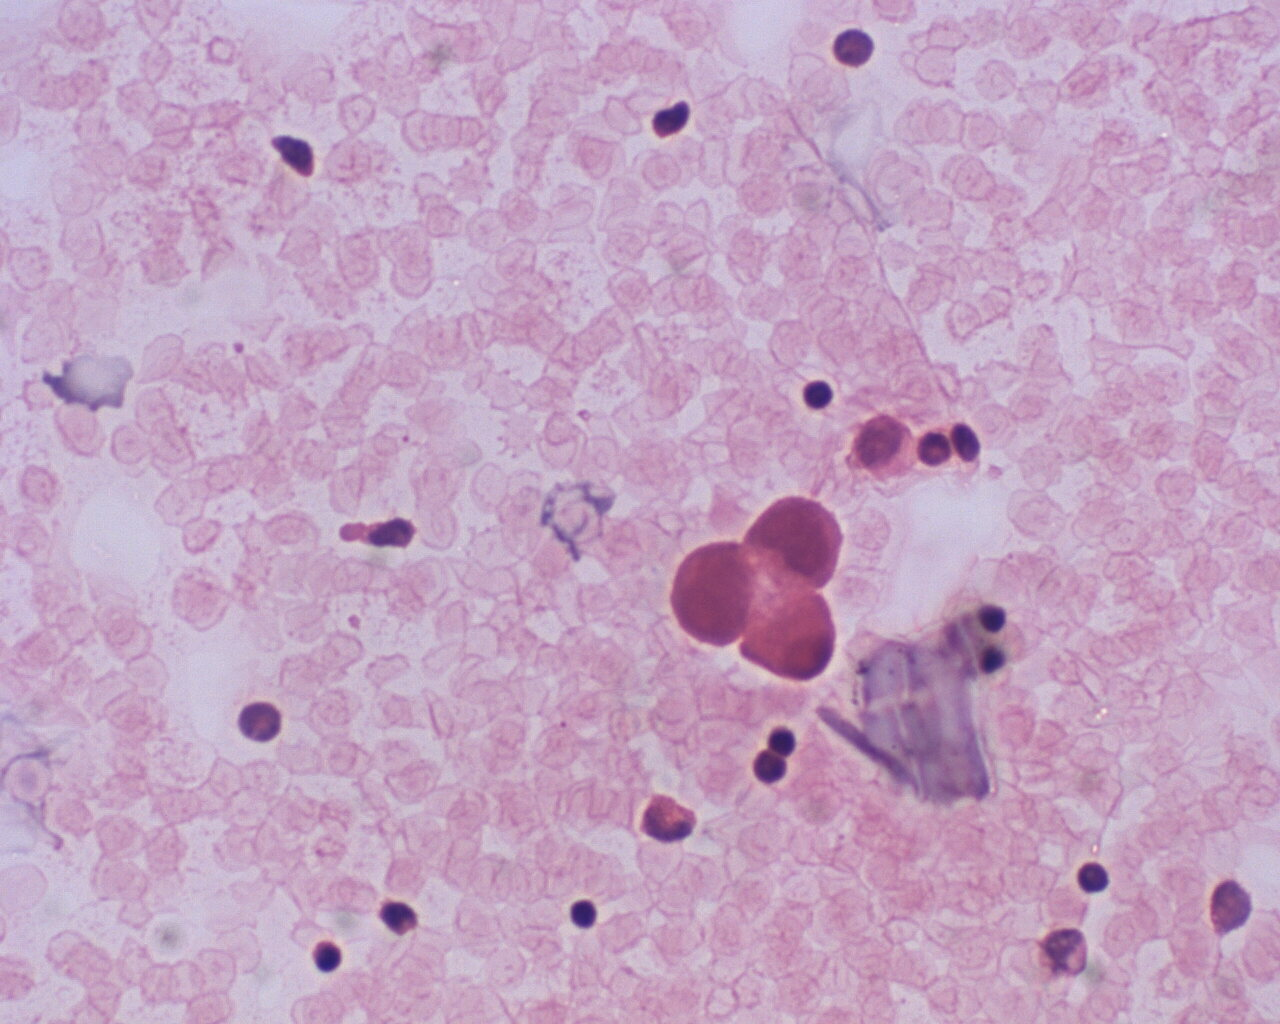ab: (745, 495, 857, 598), (667, 540, 757, 652)
lymph: (1071, 851, 1122, 905), (798, 370, 839, 427), (311, 937, 354, 981), (565, 897, 604, 933)
